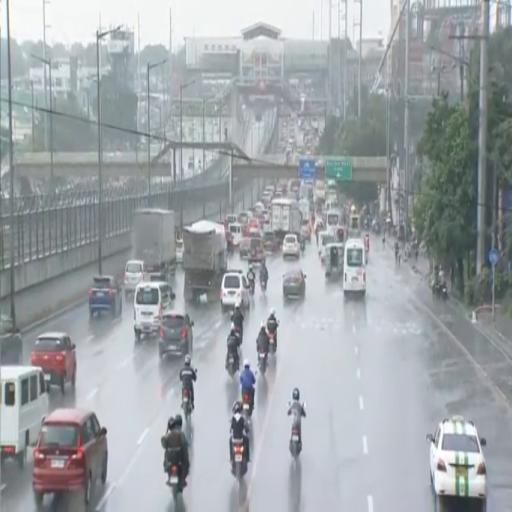car: (33, 409, 107, 505), (427, 416, 487, 510), (30, 332, 76, 393), (159, 311, 193, 359), (89, 276, 122, 317), (220, 270, 250, 313), (0, 316, 22, 364), (124, 260, 145, 298), (283, 269, 306, 299), (248, 237, 265, 264), (282, 234, 300, 259), (263, 232, 278, 252), (238, 237, 250, 260), (300, 222, 311, 243), (176, 240, 183, 264)
motorcycle: (289, 413, 302, 458), (233, 440, 247, 479), (168, 463, 182, 502), (182, 387, 192, 421), (242, 392, 252, 421), (432, 282, 448, 300), (227, 352, 238, 377), (258, 350, 267, 375), (268, 330, 276, 354), (234, 326, 242, 344), (440, 282, 448, 300), (260, 278, 267, 292), (249, 279, 254, 295), (300, 238, 305, 252)
truck: (183, 220, 227, 302), (132, 208, 176, 281), (271, 199, 300, 244), (314, 181, 326, 204)
